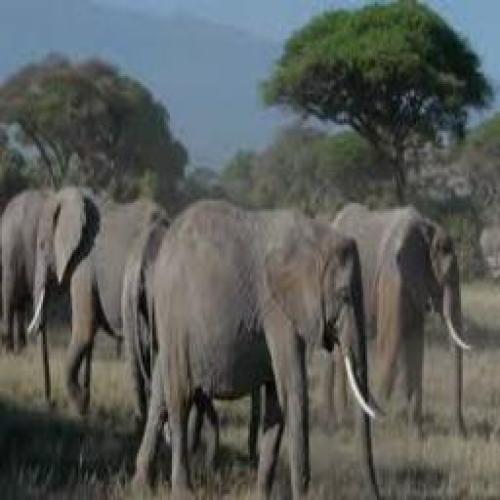orangutan-endangered: (132, 195, 386, 500), (318, 205, 477, 436), (24, 186, 175, 418), (0, 190, 43, 366)
